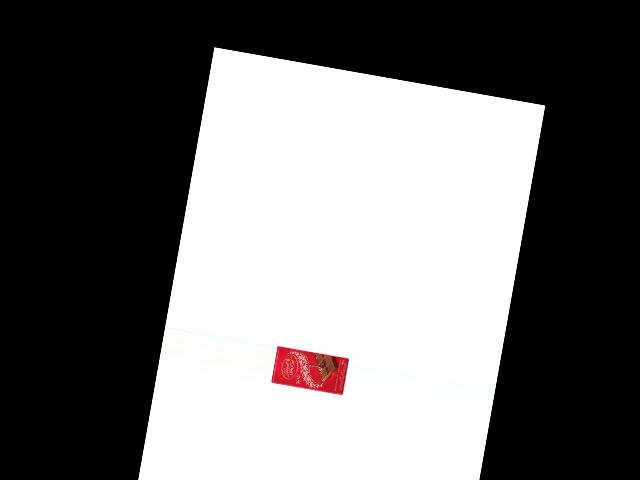chocolate: (271, 342, 349, 396)
